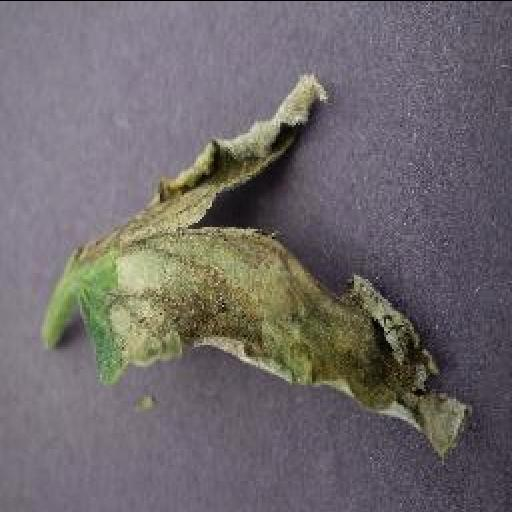disease_tomato: (72, 71, 480, 461)
